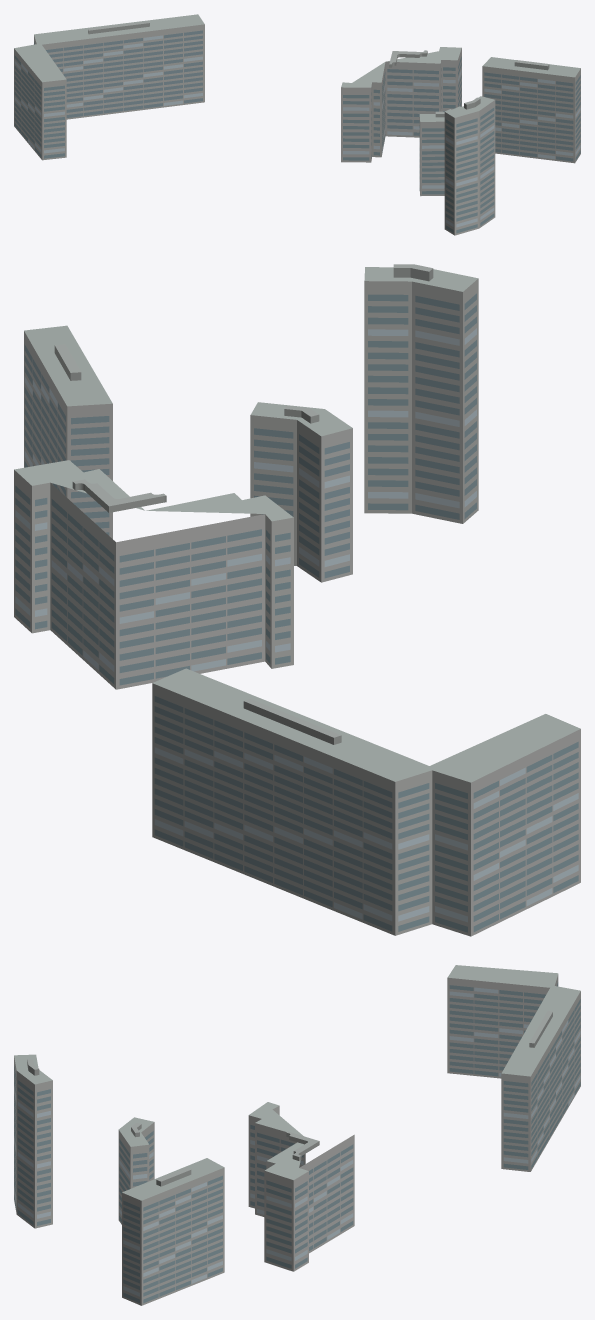
The model's file is apt-a13186905.glb.
The picture shows the model from 3 angles, top to bottom: view 1: azimuth 30°, elevation 25°; view 2: azimuth 150°, elevation 25°; view 3: azimuth 270°, elevation 25°; orthographic projection. The views are drawn at different scales.
Visible parts, largest first — view 1: apt-a13186905; view 2: apt-a13186905; view 3: apt-a13186905.
Boxes of the visible parts, box(x1,y1,x2,y2) form: apt-a13186905: box(14, 14, 580, 235); apt-a13186905: box(14, 264, 580, 936); apt-a13186905: box(14, 965, 580, 1305).
Bounding box in the file's own units: 210 × 60 × 205.
